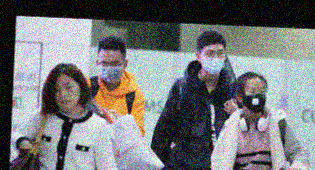with_mask: (200, 45, 226, 76), (97, 56, 124, 84), (242, 83, 267, 112)
without_mask: (52, 78, 82, 112)
